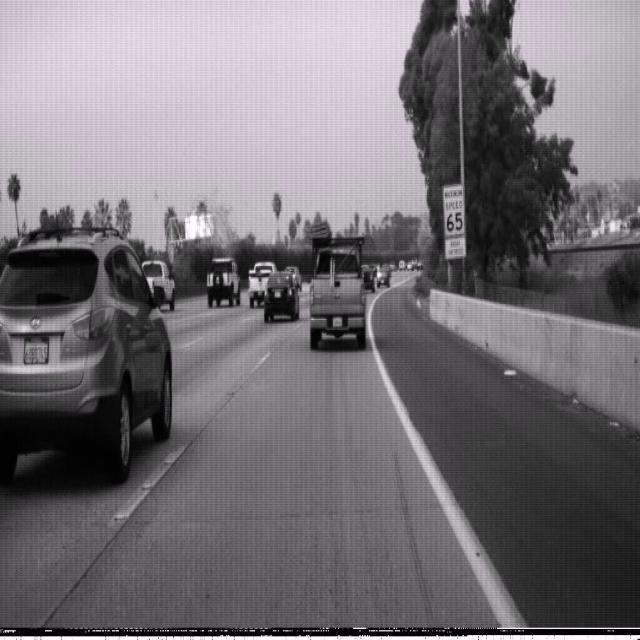speedLimit65: (442, 180, 465, 239)
